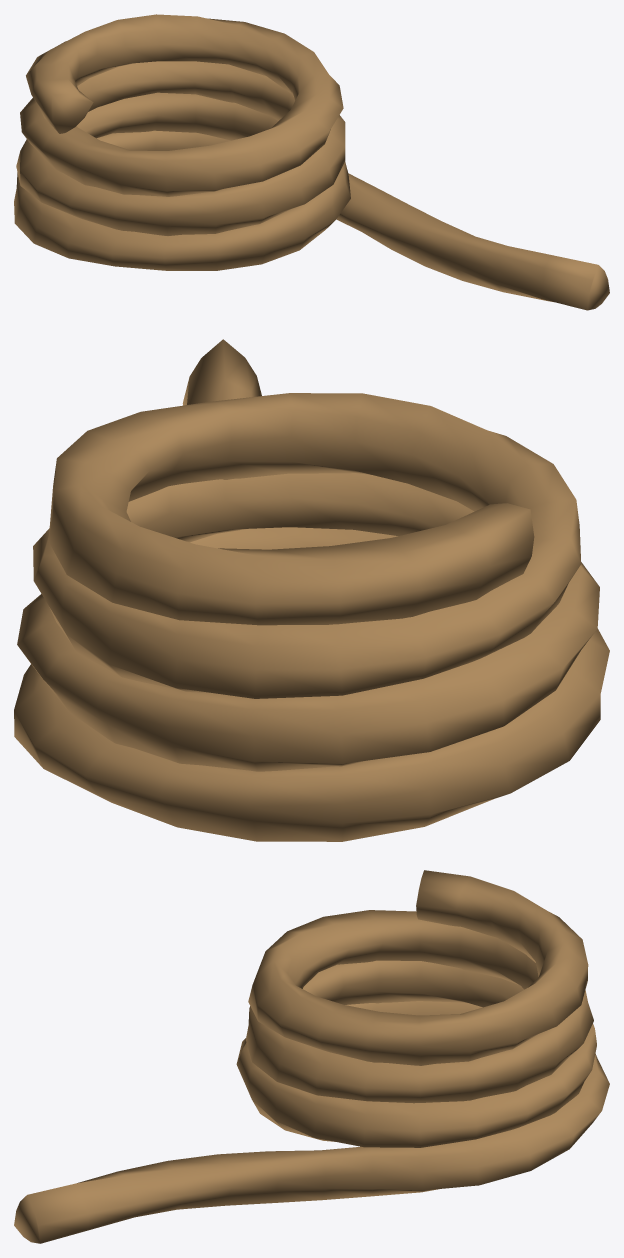
The model's file is coiled-rope_final.glb.
3 renders of one model, top to bottom at view 1: azimuth 30°, elevation 25°; view 2: azimuth 150°, elevation 25°; view 3: azimuth 270°, elevation 25°, orthographic. The views are drawn at different scales.
Visible parts, largest first — view 1: SM_CoiledRope; view 2: SM_CoiledRope; view 3: SM_CoiledRope.
Boxes of the visible parts, x1,y1,x2,y2 form: SM_CoiledRope: (14,14,609,310); SM_CoiledRope: (14,339,609,841); SM_CoiledRope: (14,870,609,1243).
Bounding box in the file's own units: 0.4569 × 0.1875 × 0.546.
